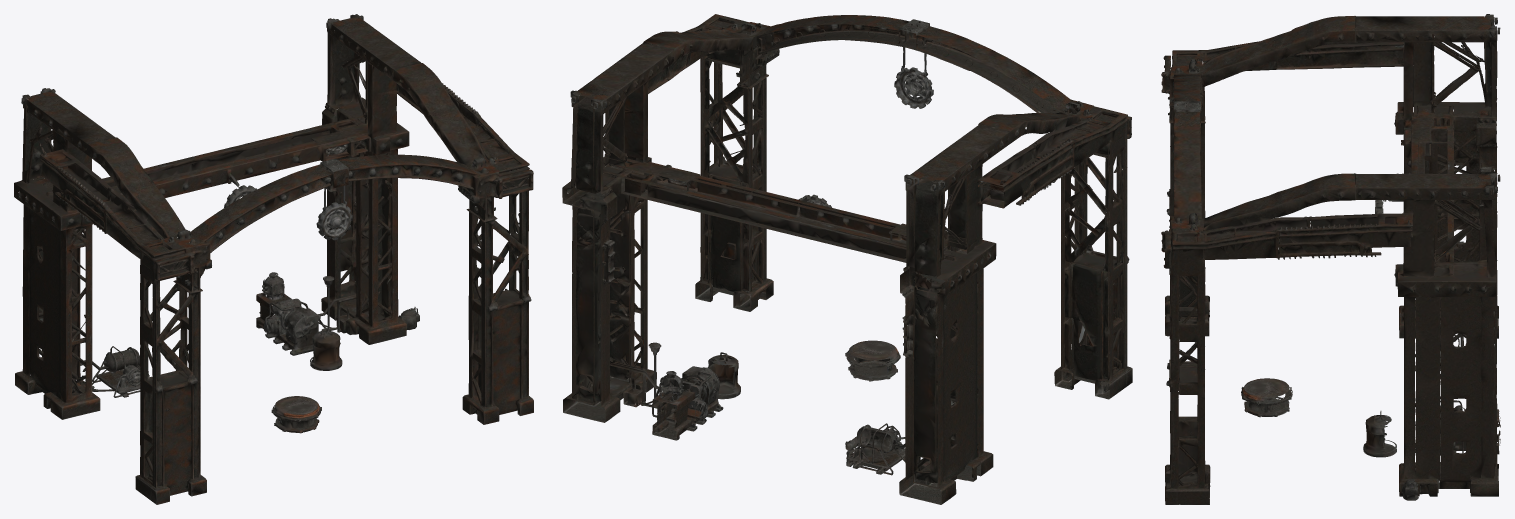
The model's file is foundry_gate.glb.
3 views of the same model, side by side, from view 1: azimuth 30°, elevation 25°; view 2: azimuth 150°, elevation 25°; view 3: azimuth 270°, elevation 25° (orthographic). The views are drawn at different scales.
Size of the model in its own units: 1.91 by 1.41 by 1.41.
1 material, 1 textured.
